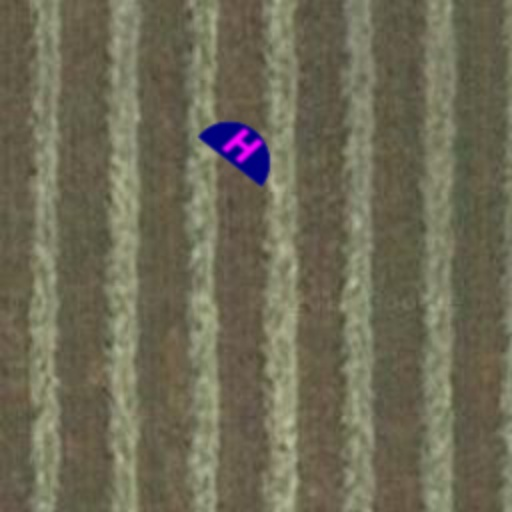semicircle: (184, 88, 300, 204)
